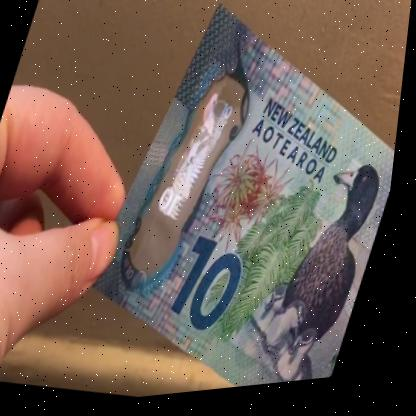10F: (157, 87, 244, 236)
